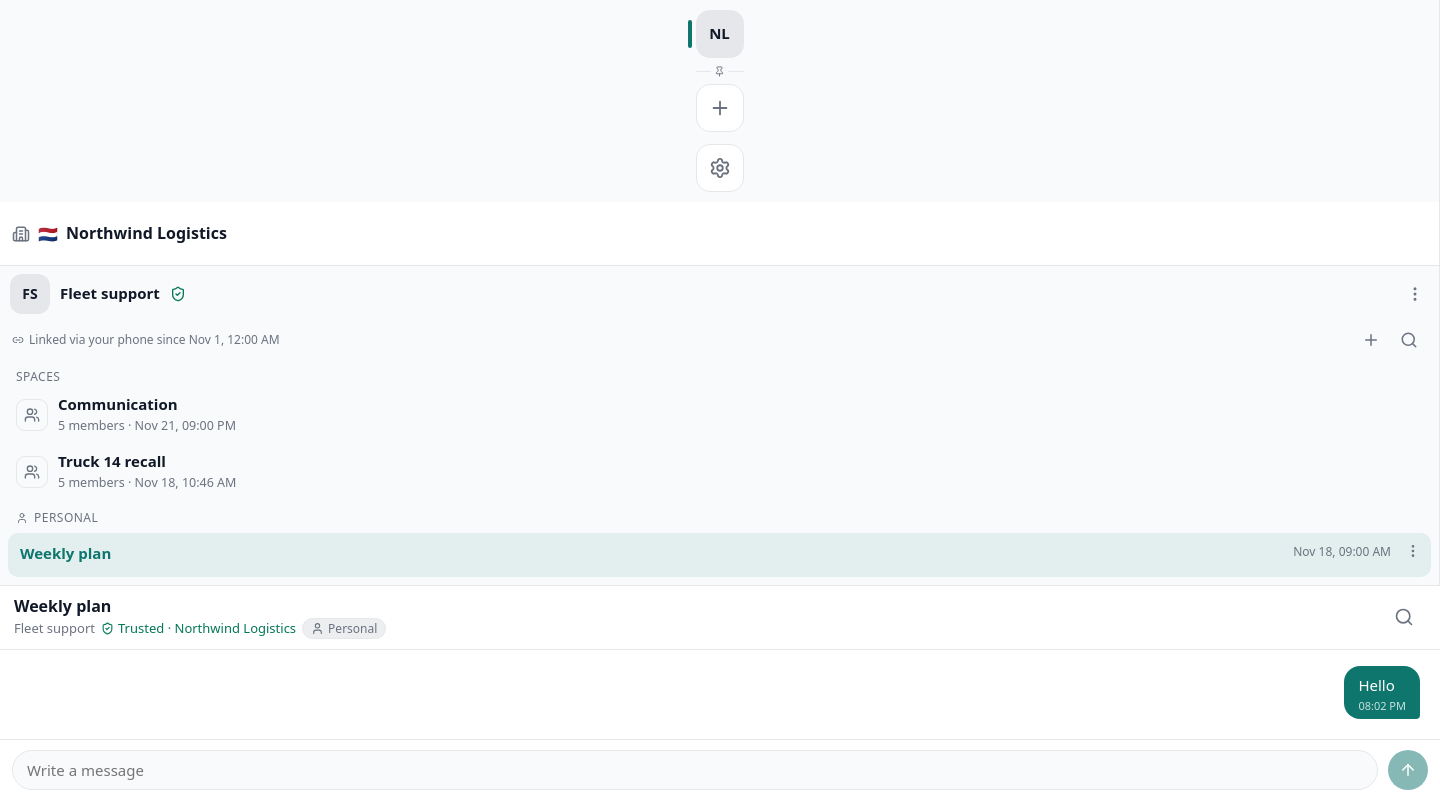
Scenario: an approver sees an approval once (UI-APPR-001, UI-APPR-007) › has the agent's Notifications in the agent's menu, with their badge, for the approvals no space holds
This screenshot has width=1440, height=803.
Click the 1st button named "Agent options" at point(1415, 294), box [1397, 276, 1433, 312]
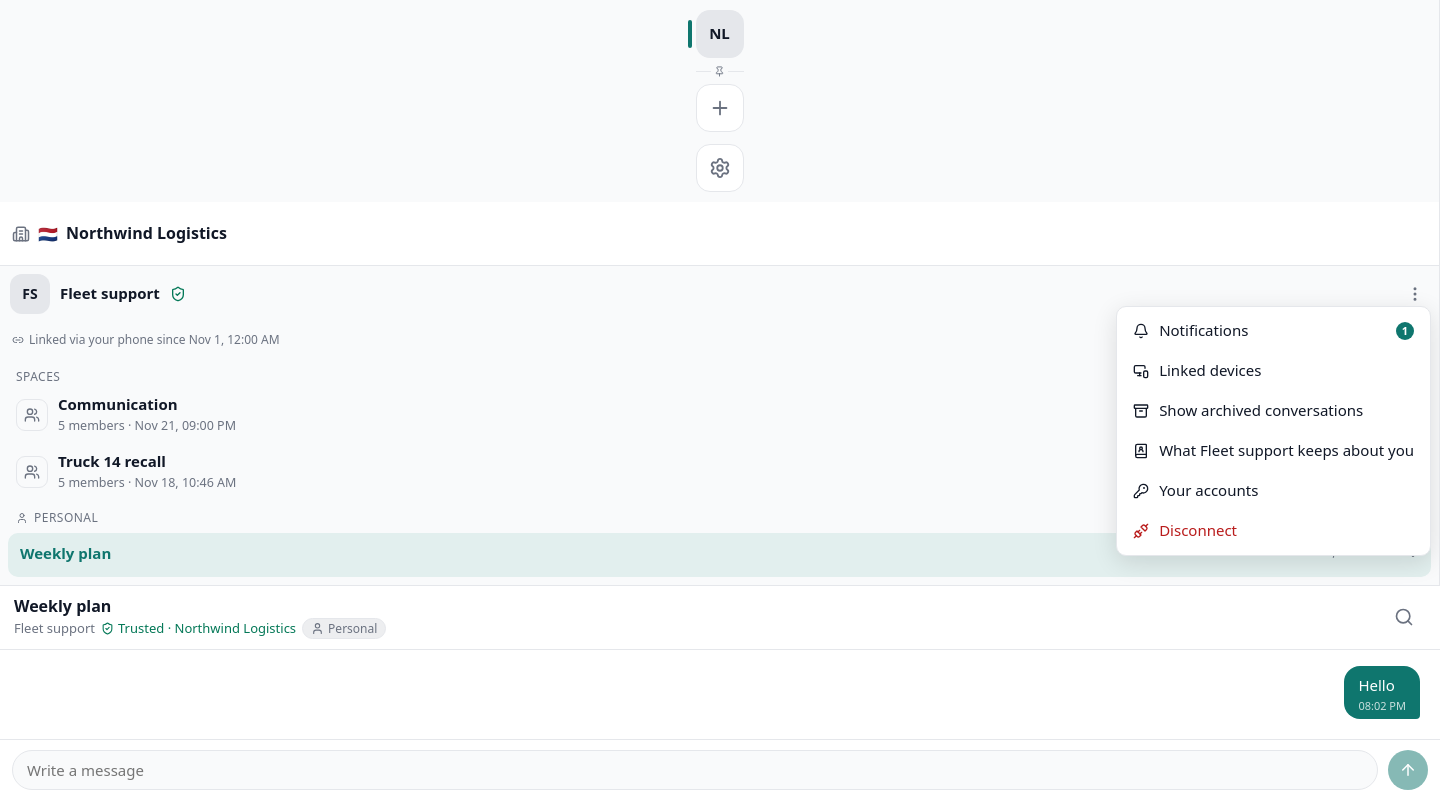
Check: the element with class "notifications-count" reads "1", box [1402, 323, 1408, 338]
Click the menu item "Notifications 1" at point(1204, 330), box [1121, 311, 1426, 351]
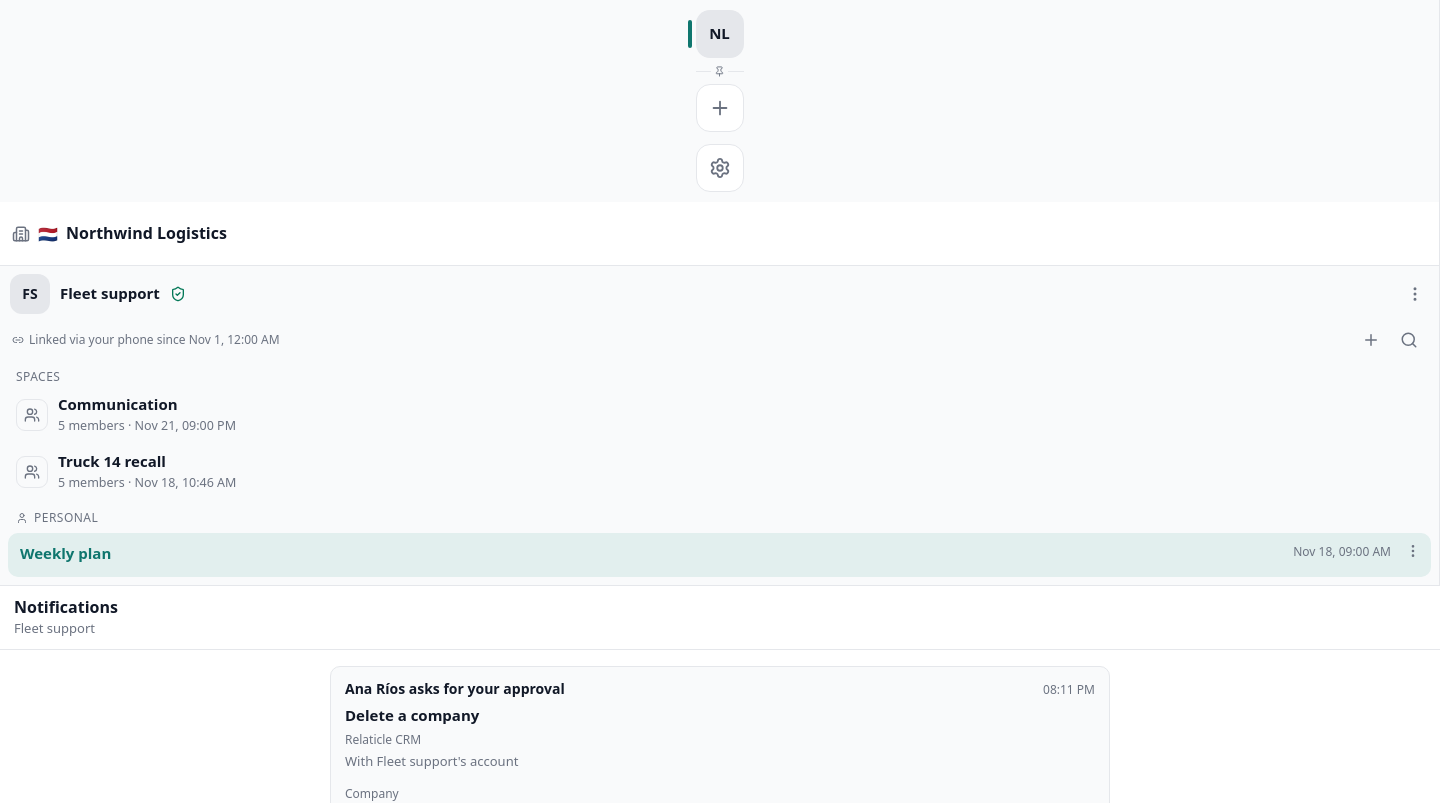
Check: the heading "Notifications" is shown, box [14, 596, 118, 618]
